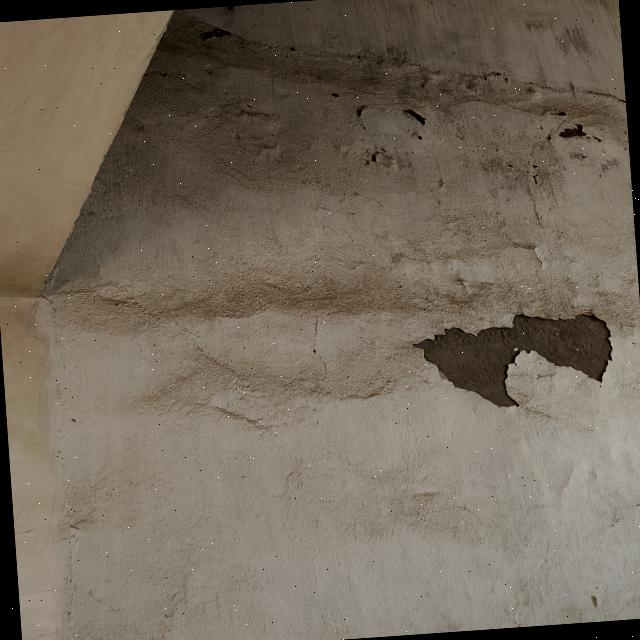peeling: (416, 314, 611, 406), (558, 124, 586, 138), (403, 109, 425, 125)
